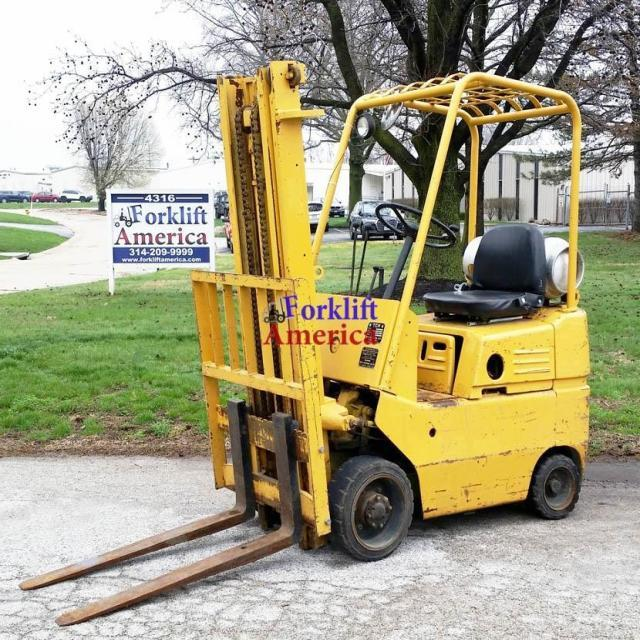forklift: (156, 41, 602, 574)
